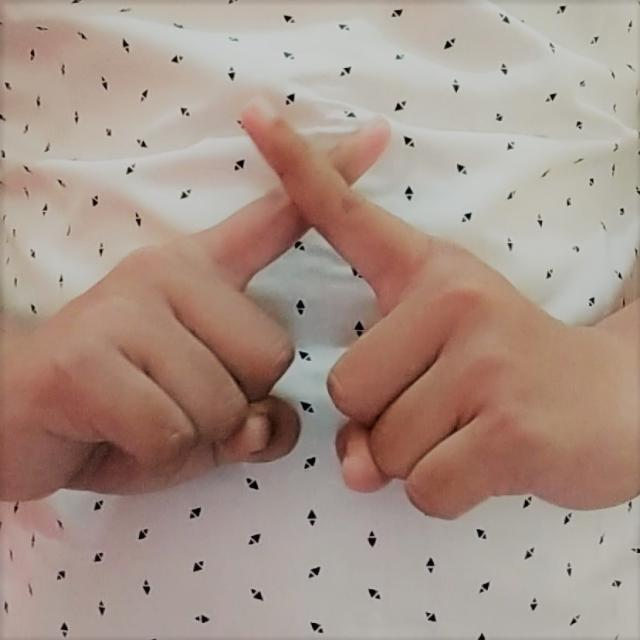X: (37, 78, 600, 549)
